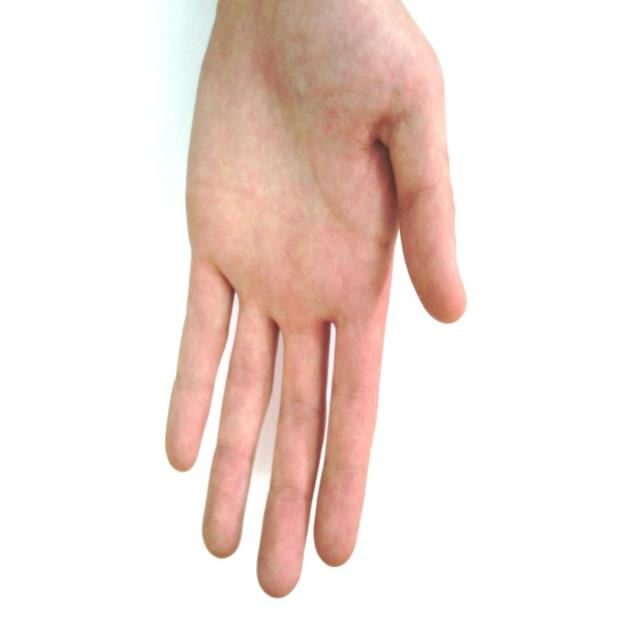others: (145, 1, 480, 603)
